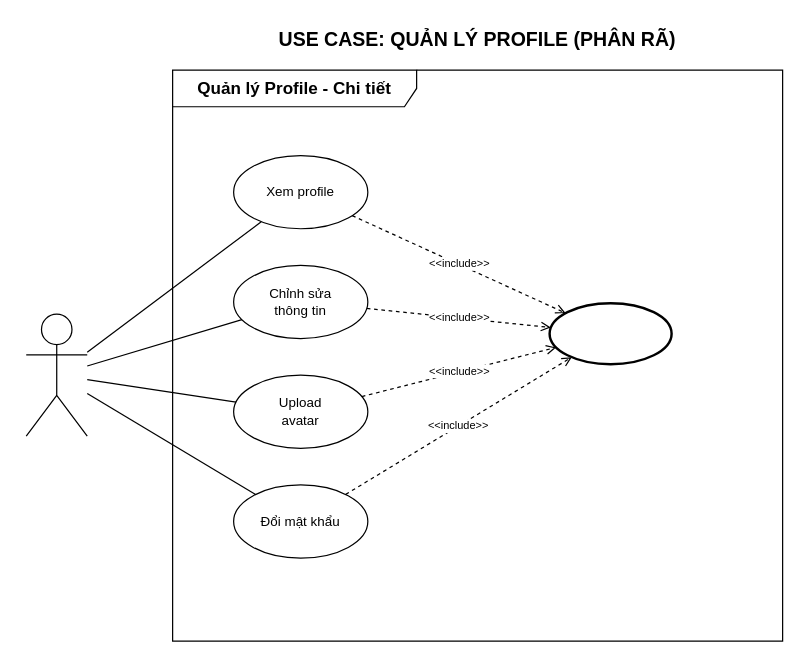
Image size: 804x662. Some labels were removed from this diagram. The centre of each missing label's shape, as x and y in pixels:
Registered User: pixel 56 374
Đăng nhập: pixel 610 333
